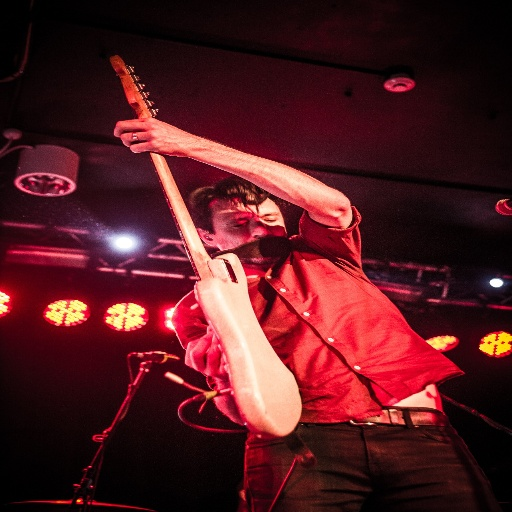hand: (109, 109, 216, 173), (183, 325, 227, 385)
